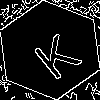K: (25, 25, 83, 82)
